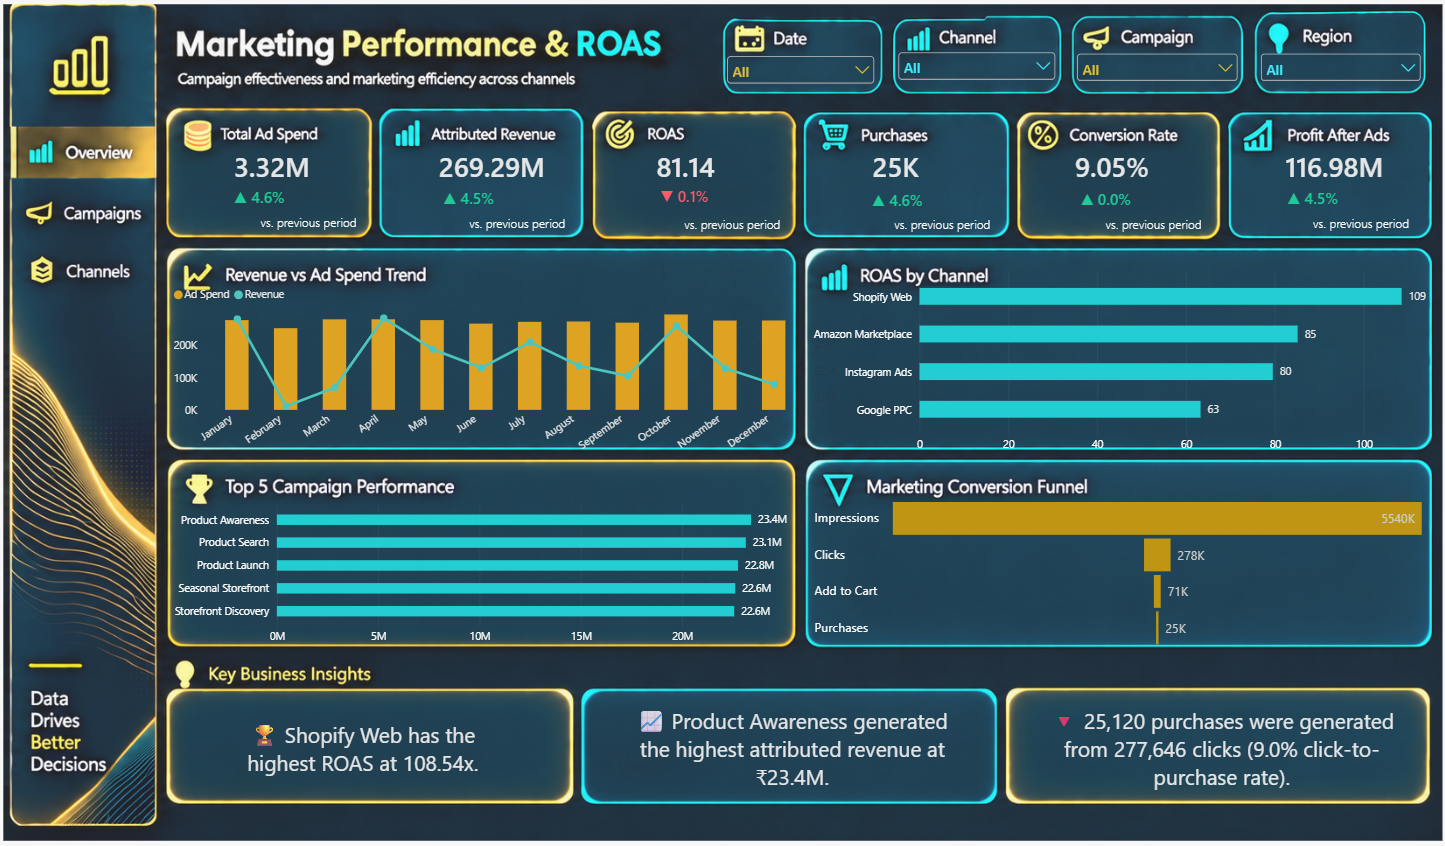

What the dashboard file says about the page in this screenshot:
{"tool":"powerbi","page":{"name":"Page 1","canvas":[1920,1080],"ordinal":0},"visuals":[{"type":"cardVisual","fields":{"Data":["All measures.Total Ad Spend"]},"box":[341.5,200,206.5,89],"z":0},{"type":"cardVisual","fields":{"Data":["All measures.Attributed Revenue"]},"box":[593.1,200,206.5,89],"z":1000},{"type":"cardVisual","fields":{"Data":["All measures.ROAS"]},"box":[814,200,206.5,89],"z":2000},{"type":"cardVisual","fields":{"Data":["All measures.Total Purchases"]},"box":[1054,200,206.5,89],"z":3000},{"type":"cardVisual","fields":{"Data":["All measures.Conversion Rate"]},"box":[1302,200,206.5,89],"z":4000},{"type":"cardVisual","fields":{"Data":["All measures.Profit After Ads"]},"box":[1556,200,206.5,89],"z":5000},{"type":"cardVisual","fields":{"Data":["Calendar.Ad Spend Indicator"]},"box":[346.2,263.8,169.7,30.2],"z":6000},{"type":"textbox","box":[430.8,299.2,138.5,23.8],"z":7000},{"type":"textbox","box":[670,300,120.8,23.8],"z":8000},{"type":"textbox","box":[915.4,300.8,123.8,23.1],"z":9000},{"type":"textbox","box":[1156.2,300.8,133.1,23.1],"z":10000},{"type":"textbox","box":[1397.7,300.8,132.3,21.5],"z":11000},{"type":"textbox","box":[1634,300,128.5,26.9],"z":12000},{"type":"cardVisual","fields":{"Data":["All measures.Attributed Revenue Indicator"]},"box":[594,256,150,50],"z":13000},{"type":"cardVisual","fields":{"Data":["All measures.ROAS Indicator"]},"box":[840,256,152,46],"z":14000},{"type":"cardVisual","fields":{"Data":["All measures.Purchases Indicator"]},"box":[1094,244,130,76],"z":15000},{"type":"cardVisual","fields":{"Data":["All measures.Conversion Rate Indicator"]},"box":[1338,256,118,52],"z":16000},{"type":"cardVisual","fields":{"Data":["All measures.Profit After Ads Indicator"]},"box":[1560,250,148,62],"z":17000},{"type":"lineClusteredColumnComboChart","fields":{"Category":["Calendar.Date.Variation.Date Hierarchy.Month"],"Y":["All measures.Total Ad Spend"],"Y2":["All measures.Attributed Revenue"]},"box":[315.7,371.5,788.4,230.2],"z":18000},{"type":"clusteredBarChart","fields":{"Category":["Marketing_ROAS_Campaign_Performance_Master.MarketingChannel"],"Y":["All measures.ROAS"]},"box":[1037.8,350.6,751.7,232],"z":18001},{"type":"clusteredBarChart","fields":{"Category":["Marketing_ROAS_Campaign_Performance_Master.CampaignName"],"Y":["All measures.Attributed Revenue"]},"box":[307.8,609.3,753.9,200.5],"z":18002},{"type":"funnel","fields":{"Category":["Funnel Stages.Stage"],"Y":["Funnel Stages.Funnel Stage Count"]},"box":[1049,610,731,201],"z":18003},{"type":"slicer","fields":{"Values":["Marketing_ROAS_Campaign_Performance_Master.Category"]},"box":[1156,110,189,71],"z":18004},{"type":"slicer","fields":{"Values":["Calendar.Date.Variation.Date Hierarchy.Year","Calendar.Date.Variation.Date Hierarchy.Month"]},"box":[960,114,178,50],"z":18006},{"type":"slicer","fields":{"Values":["Marketing_ROAS_Campaign_Performance_Master.CampaignName"]},"box":[1360,111,193,54],"z":18007},{"type":"slicer","fields":{"Values":["Marketing_ROAS_Campaign_Performance_Master.Region"]},"box":[1570,111,192,48],"z":18008},{"type":"cardVisual","fields":{"Data":["All measures.Insight - Top ROAS Channel"]},"box":[375,816.3,345.1,163.2],"z":18009},{"type":"cardVisual","fields":{"Data":["All measures.Insight - Top Campaign"]},"box":[835.5,786.6,410,224],"z":18010},{"type":"cardVisual","fields":{"Data":["All measures.Insight - Funnel"]},"box":[1309.9,798.8,440,200],"z":18011}]}

Visuals, with their boxes on the page's 1920x1080 design canvas (x1, y1, x2, y2). These are canvas units, not pixel positions in the 1445x846 screenshot, which may show the page scaled, cropped or inside an application window:
cardVisual - All measures.Total Ad Spend: rect(342, 200, 548, 289)
cardVisual - All measures.Attributed Revenue: rect(593, 200, 800, 289)
cardVisual - All measures.ROAS: rect(814, 200, 1020, 289)
cardVisual - All measures.Total Purchases: rect(1054, 200, 1260, 289)
cardVisual - All measures.Conversion Rate: rect(1302, 200, 1508, 289)
cardVisual - All measures.Profit After Ads: rect(1556, 200, 1762, 289)
cardVisual - Calendar.Ad Spend Indicator: rect(346, 264, 516, 294)
textbox: rect(431, 299, 569, 323)
textbox: rect(670, 300, 791, 324)
textbox: rect(915, 301, 1039, 324)
textbox: rect(1156, 301, 1289, 324)
textbox: rect(1398, 301, 1530, 322)
textbox: rect(1634, 300, 1762, 327)
cardVisual - All measures.Attributed Revenue Indicator: rect(594, 256, 744, 306)
cardVisual - All measures.ROAS Indicator: rect(840, 256, 992, 302)
cardVisual - All measures.Purchases Indicator: rect(1094, 244, 1224, 320)
cardVisual - All measures.Conversion Rate Indicator: rect(1338, 256, 1456, 308)
cardVisual - All measures.Profit After Ads Indicator: rect(1560, 250, 1708, 312)
lineClusteredColumnComboChart - Calendar.Date.Variation.Date Hierarchy.Month x All measures.Total Ad Spend: rect(316, 372, 1104, 602)
clusteredBarChart - Marketing_ROAS_Campaign_Performance_Master.MarketingChannel x All measures.ROAS: rect(1038, 351, 1790, 583)
clusteredBarChart - Marketing_ROAS_Campaign_Performance_Master.CampaignName x All measures.Attributed Revenue: rect(308, 609, 1062, 810)
funnel - Funnel Stages.Stage x Funnel Stages.Funnel Stage Count: rect(1049, 610, 1780, 811)
slicer - Marketing_ROAS_Campaign_Performance_Master.Category: rect(1156, 110, 1345, 181)
slicer - Calendar.Date.Variation.Date Hierarchy.Year x Calendar.Date.Variation.Date Hierarchy.Month: rect(960, 114, 1138, 164)
slicer - Marketing_ROAS_Campaign_Performance_Master.CampaignName: rect(1360, 111, 1553, 165)
slicer - Marketing_ROAS_Campaign_Performance_Master.Region: rect(1570, 111, 1762, 159)
cardVisual - All measures.Insight - Top ROAS Channel: rect(375, 816, 720, 980)
cardVisual - All measures.Insight - Top Campaign: rect(836, 787, 1246, 1011)
cardVisual - All measures.Insight - Funnel: rect(1310, 799, 1750, 999)
